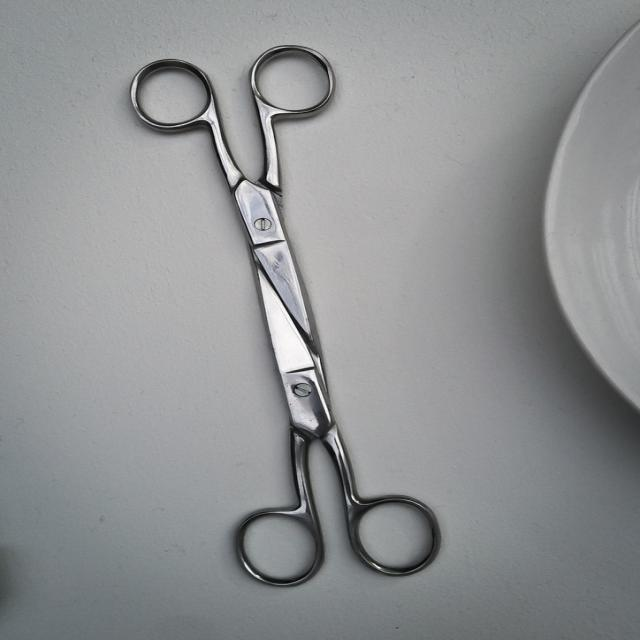scissors: (128, 44, 441, 586)
